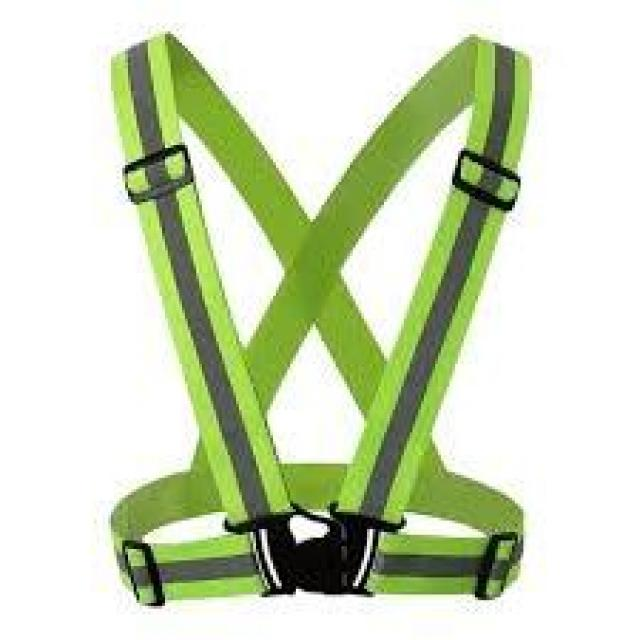Reflective-Jacket: (17, 6, 595, 637)
